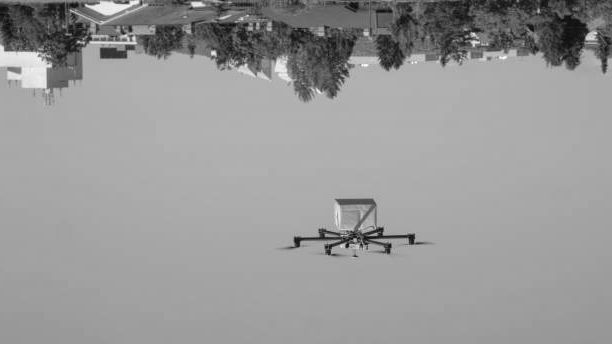Drone: (276, 224, 437, 262)
